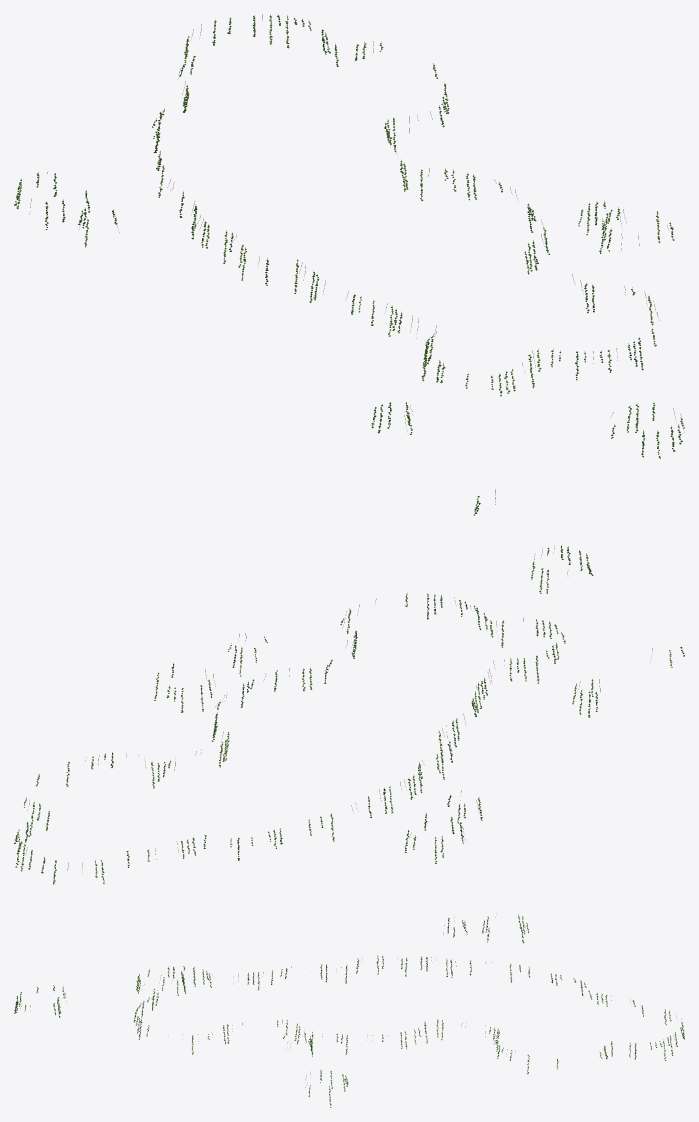
File: SM_H05_Vines.fbx
3 renders of one model, top to bottom at view 1: azimuth 30°, elevation 25°; view 2: azimuth 150°, elevation 25°; view 3: azimuth 270°, elevation 25°, orthographic. The views are drawn at different scales.
Visible parts, largest first — view 1: SM_H05_Vines; view 2: SM_H05_Vines; view 3: SM_H05_Vines.
Part boxes in pixels (x1,y1,x2,y2): SM_H05_Vines: (14,14,684,515); SM_H05_Vines: (14,545,684,884); SM_H05_Vines: (14,914,684,1107).
Size of the model in its own units: 249 by 44.41 by 462.
